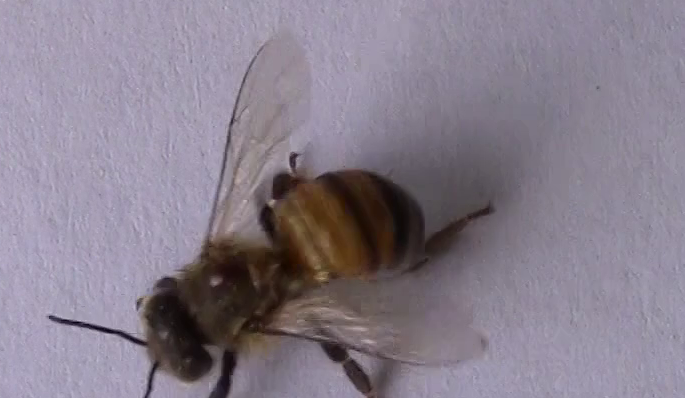Varroa destructor: (206, 258, 260, 295)
